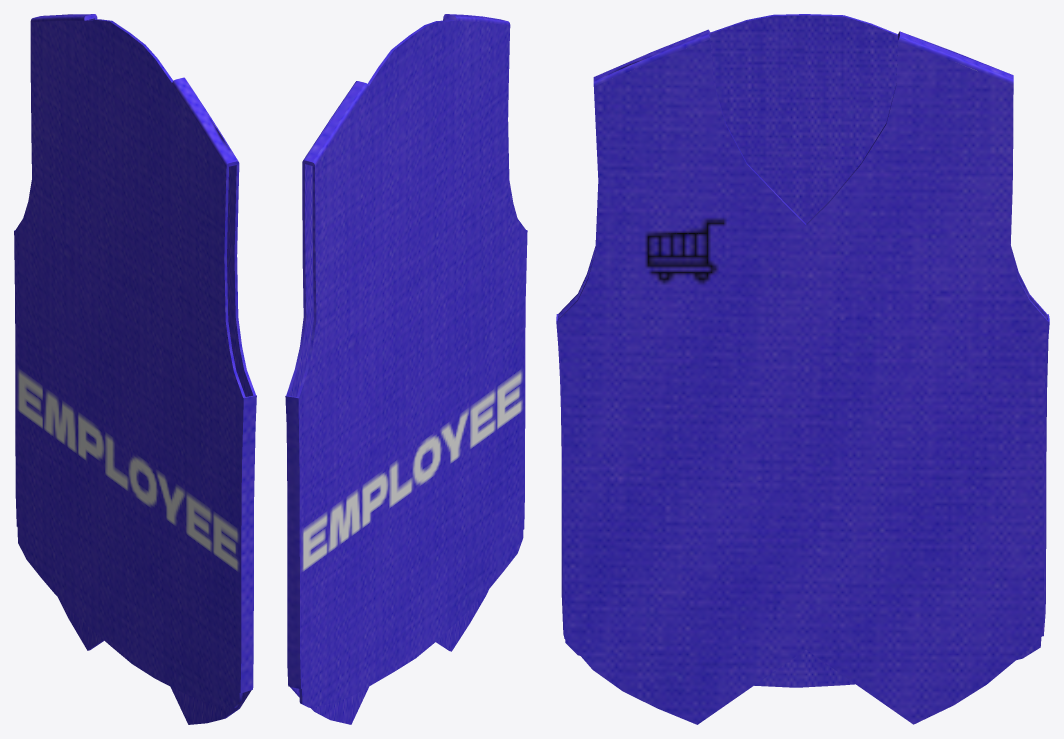
File: Vest.fbx
The picture shows the model from 3 angles, left to right: view 1: azimuth 30°, elevation 25°; view 2: azimuth 150°, elevation 25°; view 3: azimuth 270°, elevation 25°; orthographic projection. The views are drawn at different scales.
Visible parts, largest first — view 1: Vest; view 2: Vest; view 3: Vest.
Part boxes in pixels (bbox=[...]): Vest: bbox=[14, 14, 256, 724]; Vest: bbox=[285, 14, 527, 724]; Vest: bbox=[556, 14, 1049, 724].
Size of the model in its own units: 0.9966 by 48.54 by 30.83.
1 material, 1 textured.
